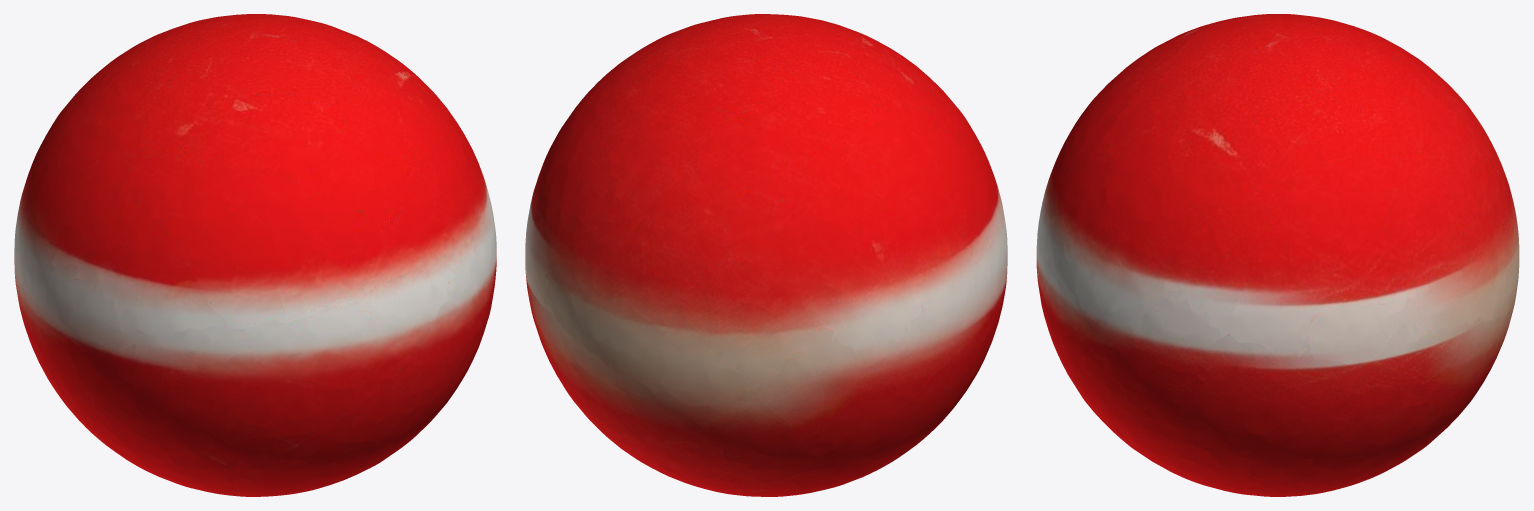
The model's file is props_pallo.glb.
3 views of the same model, side by side, from view 1: azimuth 30°, elevation 25°; view 2: azimuth 150°, elevation 25°; view 3: azimuth 270°, elevation 25° (orthographic).
Visible parts, largest first — view 1: output_unwrapped; view 2: output_unwrapped; view 3: output_unwrapped.
Part boxes in pixels (left/top/right/bottom): output_unwrapped: left=14, top=14, right=496, bottom=496; output_unwrapped: left=525, top=14, right=1007, bottom=496; output_unwrapped: left=1036, top=14, right=1519, bottom=496.
Bounding box in the file's own units: 0.12 × 0.12 × 0.12.
1 material, 1 textured.
